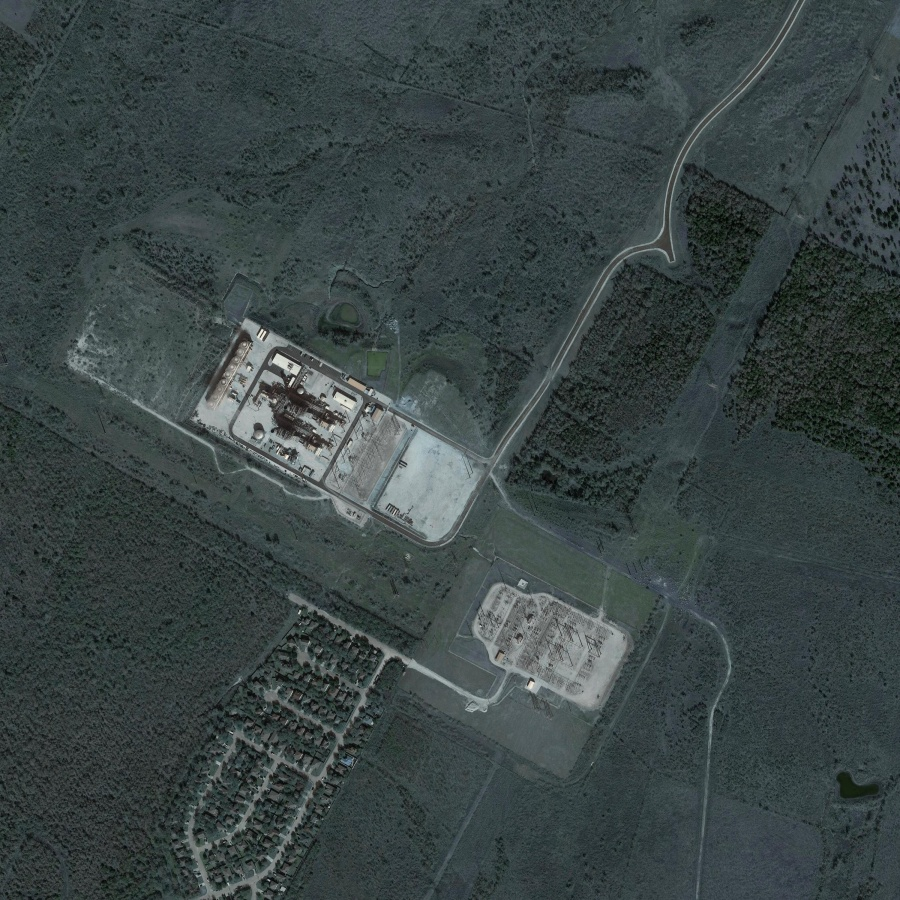PowerPlant: (196, 321, 406, 511), (470, 567, 616, 704)
